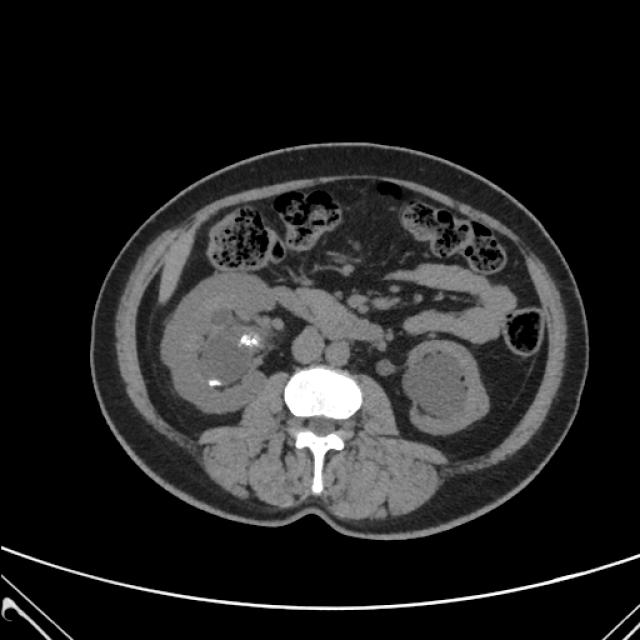kidney: (202, 315, 264, 392), (408, 359, 464, 414)
stone: (241, 336, 258, 346), (210, 380, 220, 386)
